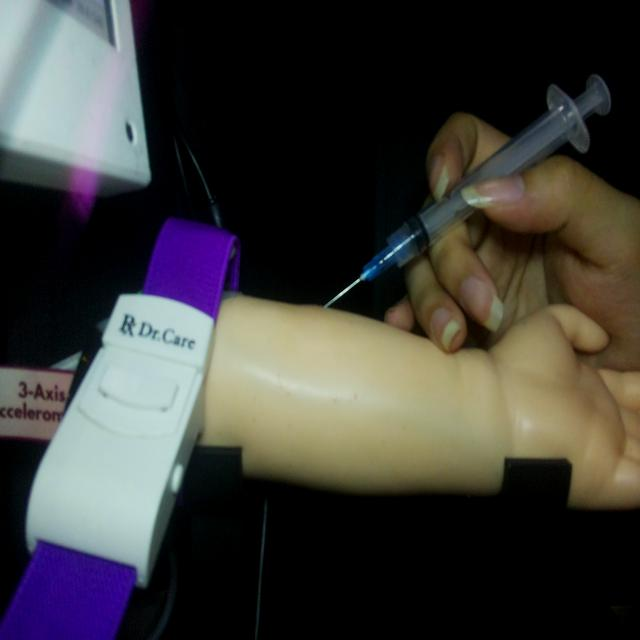28 degrees: (322, 70, 612, 310)
